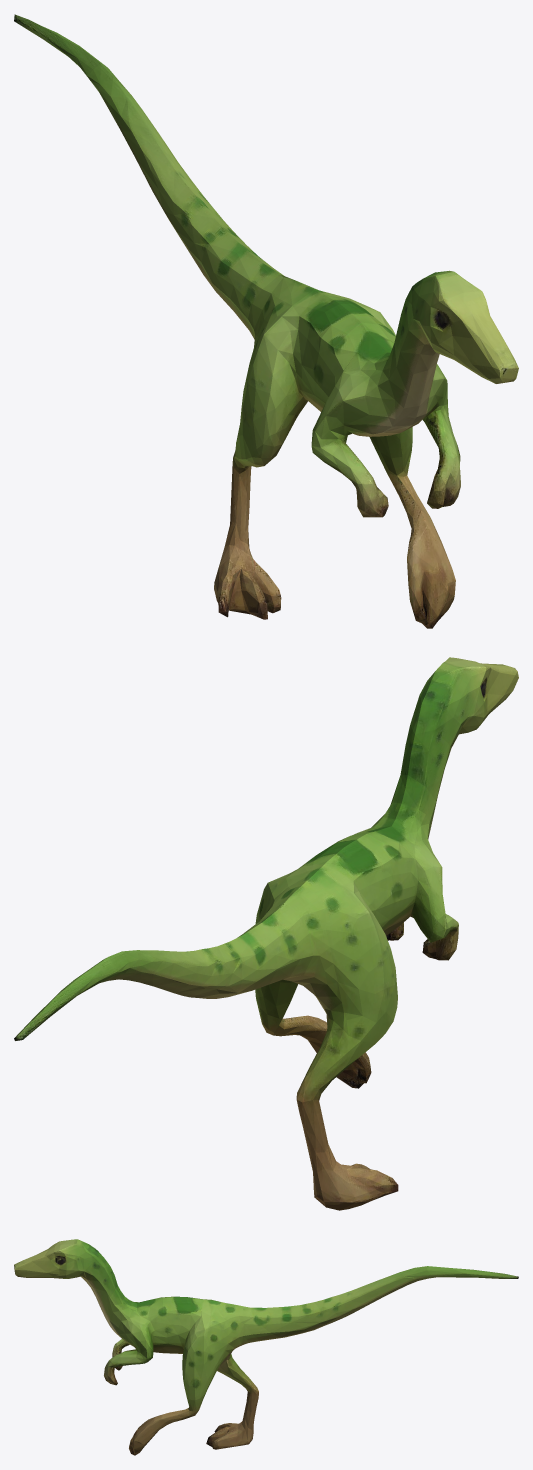
The model's file is compsognathus.glb.
The picture shows the model from 3 angles, top to bottom: view 1: azimuth 30°, elevation 25°; view 2: azimuth 150°, elevation 25°; view 3: azimuth 270°, elevation 25°; orthographic projection. The views are drawn at different scales.
Parts seen in each view (by area): view 1: geometry_0; view 2: geometry_0; view 3: geometry_0.
Part boxes in pixels (x1,y1,x2,y2): geometry_0: [14, 14, 518, 628]; geometry_0: [14, 657, 518, 1210]; geometry_0: [14, 1239, 518, 1455].
Size of the model in its own units: 0.1923 by 0.4766 by 1.
1 material, 1 textured.
